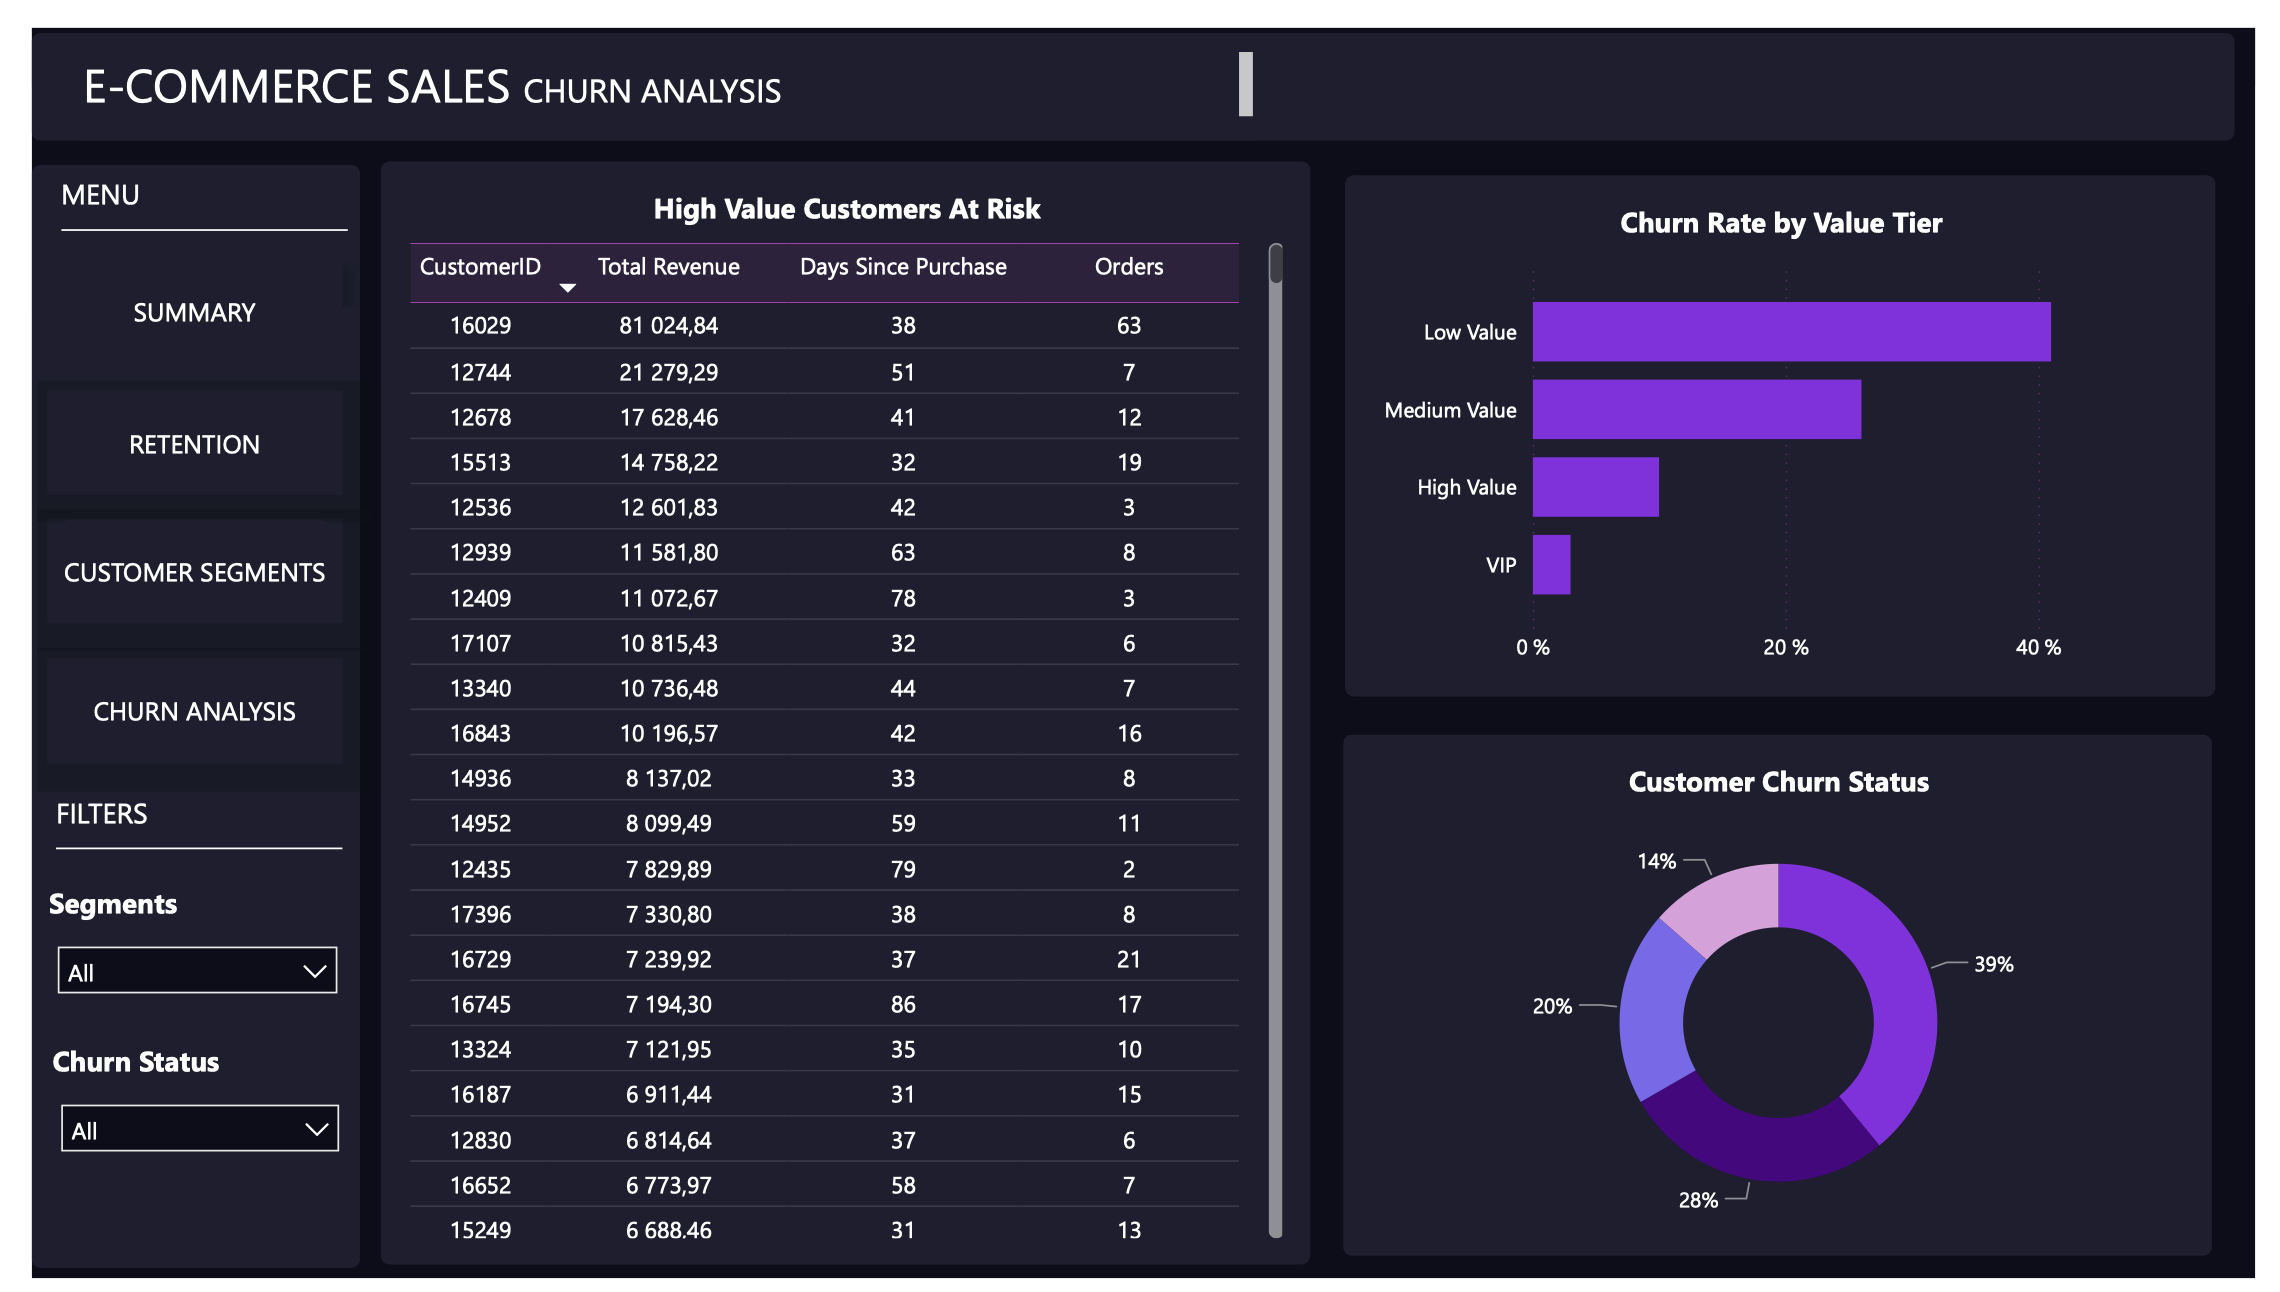

This screenshot's page, from the dashboard's own definition file:
{"tool":"powerbi","page":{"name":"CHURN","canvas":[1280,720],"ordinal":3},"visuals":[{"type":"shape","box":[0,3.2,1267.9,61.6],"z":0},{"type":"shape","box":[0,78.9,189.5,634.7],"z":1000},{"type":"textbox","title":"MENU","box":[16.7,84.8,165,71.2],"z":2000},{"type":"textbox","box":[30.3,13.6,672.3,51.5],"z":3000},{"type":"actionButton","title":"CUSTOMER SEGMENTS","box":[9.1,133,169.6,60.6],"z":4000},{"type":"actionButton","title":"CUSTOMER SEGMENTS","box":[9.1,208.7,169.6,60.6],"z":5000},{"type":"actionButton","title":"CUSTOMER SEGMENTS","box":[9.1,282.9,169.6,60.6],"z":6000},{"type":"actionButton","title":"CUSTOMER SEGMENTS","box":[9.1,363.1,169.6,60.6],"z":7000},{"type":"slicer","title":"Segments","fields":{"Values":["RFM_segment.customer_segment"]},"box":[9.1,492.1,172.6,77.2],"z":8000},{"type":"textbox","title":"FILTERS","box":[13.6,440.6,165,66.6],"z":9000},{"type":"slicer","title":"Churn Status","fields":{"Values":["customer_churn_analysis.churn_status"]},"box":[10.6,583,172.6,77.2],"z":10000},{"type":"clusteredBarChart","title":"Churn Rate by Value Tier","fields":{"Category":["churn_by_value_tier.value_tier"],"Y":["churn_by_value_tier.Churn Rate Display"]},"box":[756.3,85.3,500.5,300],"z":11000},{"type":"donutChart","title":"Customer Churn Status","fields":{"Category":["customer_churn_analysis.churn_status"],"Y":["CountNonNull(customer_churn_analysis.CustomerID)"]},"box":[754.7,407.4,500.5,300],"z":12000},{"type":"tableEx","title":"High Value Customers At Risk","fields":{"Values":["customer_churn_analysis.CustomerID","Sum(customer_churn_analysis.total_revenue)","Sum(customer_churn_analysis.recency_days)","Sum(customer_churn_analysis.num_orders)"]},"box":[200.5,77.4,535.3,634.7],"z":13000}]}

Visuals, with their boxes in screenshot pixels (x1, y1, x2, y2), scaled from the page's 1280x720 canvas onto the 2280x1292 screenshot:
shape: [0, 6, 2258, 116]
shape: [0, 142, 338, 1281]
"MENU" textbox: [30, 152, 324, 280]
textbox: [54, 24, 1252, 117]
"CUSTOMER SEGMENTS" actionButton: [16, 239, 318, 347]
"CUSTOMER SEGMENTS" actionButton: [16, 375, 318, 483]
"CUSTOMER SEGMENTS" actionButton: [16, 508, 318, 616]
"CUSTOMER SEGMENTS" actionButton: [16, 652, 318, 760]
"Segments" slicer: [16, 883, 324, 1022]
"FILTERS" textbox: [24, 791, 318, 910]
"Churn Status" slicer: [19, 1046, 326, 1185]
"Churn Rate by Value Tier" clusteredBarChart: [1347, 153, 2239, 691]
"Customer Churn Status" donutChart: [1344, 731, 2236, 1269]
"High Value Customers At Risk" tableEx: [357, 139, 1311, 1278]
